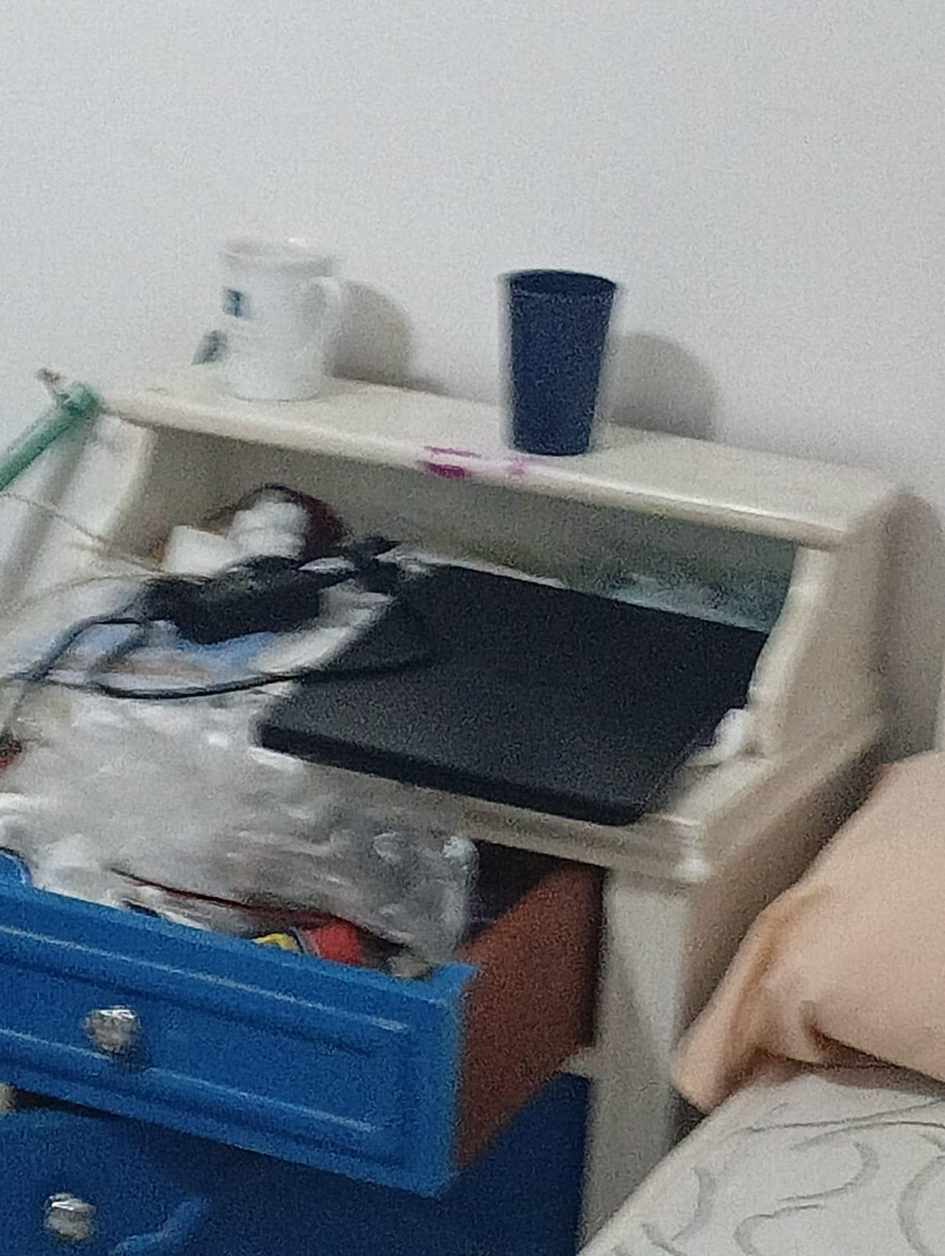cup: (504, 270, 615, 455), (221, 237, 340, 400)
